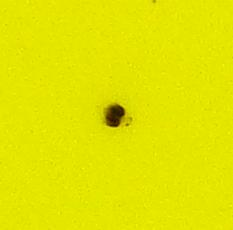Coleoptera: (100, 100, 133, 130)
